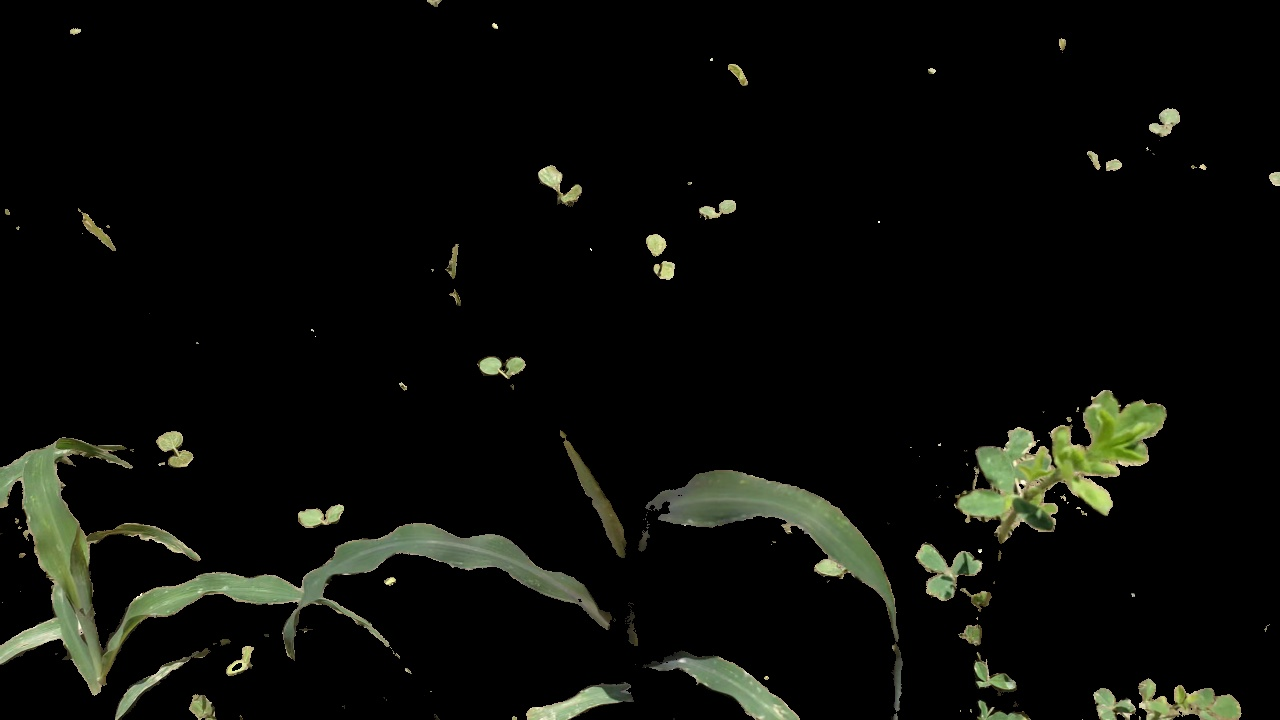crop: (279, 460, 906, 720), (1, 430, 409, 720)
weed: (976, 382, 1162, 560), (917, 516, 1042, 720), (1071, 672, 1280, 720), (535, 159, 588, 200), (153, 418, 197, 467), (642, 228, 679, 280), (465, 351, 528, 378), (299, 495, 350, 528), (1144, 104, 1185, 145), (1082, 141, 1123, 177), (699, 190, 736, 217)
